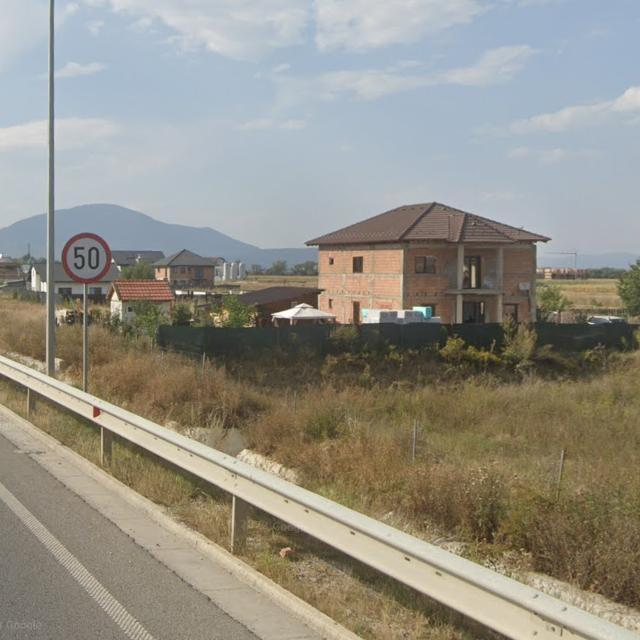forb_speed_over_50: (61, 232, 113, 283)
